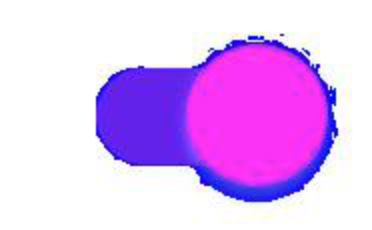Switch: (1, 1, 371, 229)
